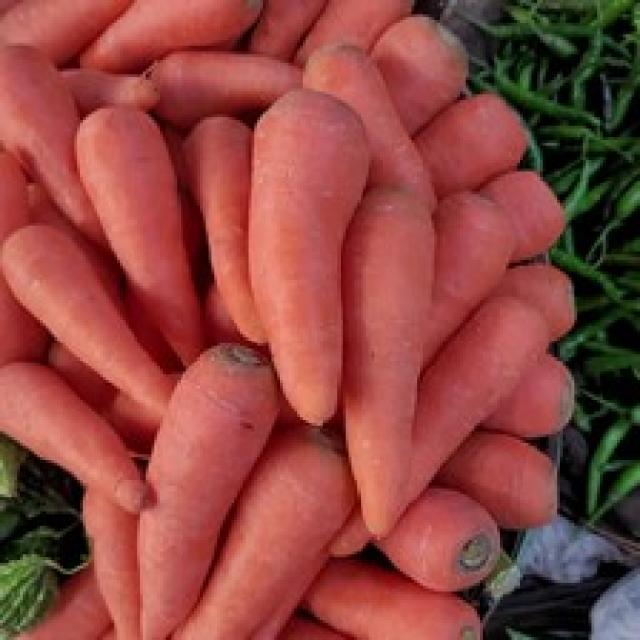Fresh_Carrot: (74, 125, 210, 323), (250, 134, 348, 393), (371, 193, 434, 541)
